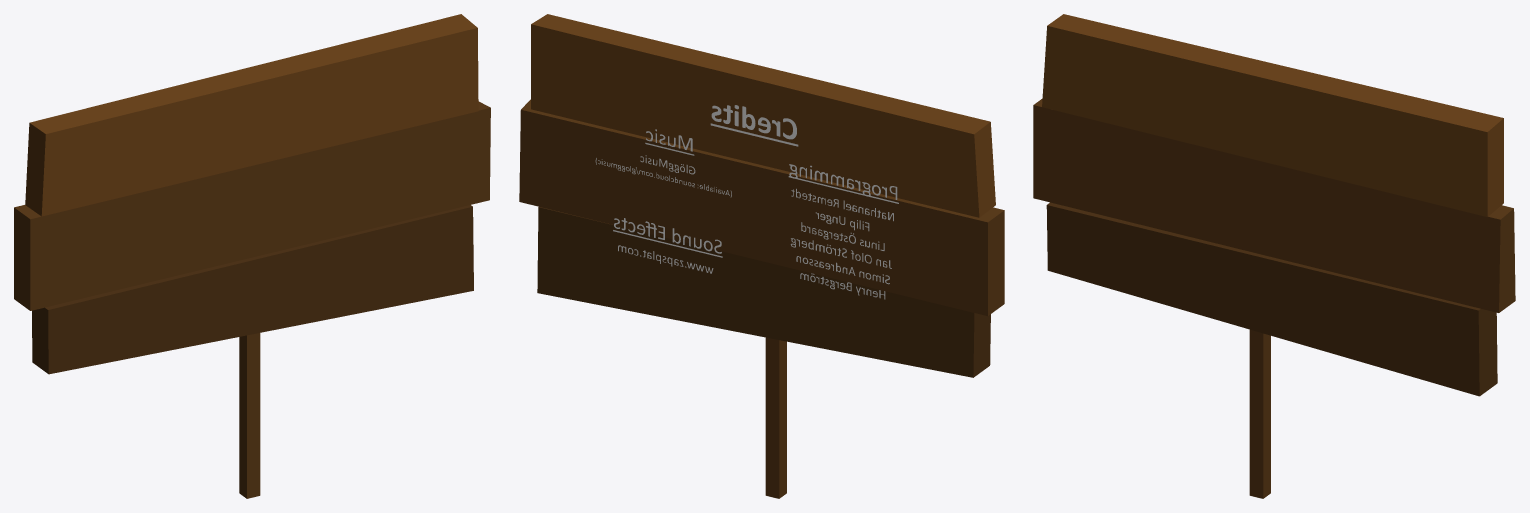
File: CreditsSign3.obj
3 views of the same model, side by side, from view 1: azimuth 30°, elevation 25°; view 2: azimuth 150°, elevation 25°; view 3: azimuth 330°, elevation 25° (orthographic). The views are drawn at different scales.
Visible parts, largest first — view 1: Cube, Cube.005, Cube.006, Cube.001; view 2: Cube.005, Cube, Cube.006, Plane.002, Cube.001; view 3: Cube, Cube.005, Cube.006, Cube.001.
Part boxes in pixels (x1,y1,x2,y2): Cube: (25, 14, 478, 216); Cube.005: (14, 101, 490, 310); Cube.006: (32, 205, 473, 374); Cube.001: (239, 333, 260, 498); Cube.005: (519, 99, 1004, 316); Cube: (531, 14, 995, 217); Cube.006: (537, 207, 990, 377); Plane.002: (595, 105, 898, 299); Cube.001: (765, 337, 786, 498); Cube: (1042, 14, 1503, 216); Cube.005: (1033, 98, 1515, 312); Cube.006: (1046, 202, 1497, 396); Cube.001: (1249, 329, 1270, 498).
Size of the model in its own units: 2.62 by 2.26 by 0.2072.
